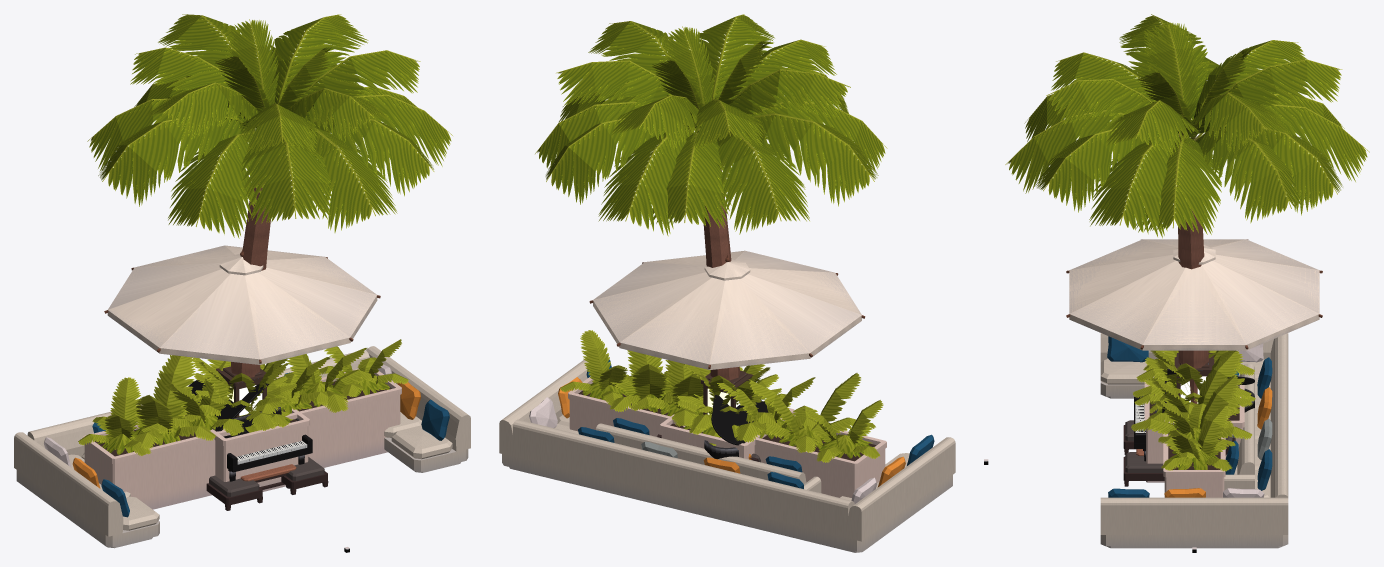
The model's file is Props.fbx.
3 renders of one model, left to right at view 1: azimuth 30°, elevation 25°; view 2: azimuth 150°, elevation 25°; view 3: azimuth 270°, elevation 25°, orthographic.
Visible parts, largest first — view 1: Palm__Foliage, UmbrellaSet__Opaque, LoungeCouch__Opaque, PlanterBed__Foliage, PlanterBed__Opaque, PalmPlanter__Opaque, Piano__Opaque, FernPlanter__Foliage, Palm__Opaque, SideCouch__Opaque, LanternTall__Opaque; view 2: Palm__Foliage, LoungeCouch__Opaque, UmbrellaSet__Opaque, PlanterBed__Foliage, PlanterBed__Opaque, SideCouch__Opaque, FernPlanter__Foliage, Piano__Opaque, Palm__Opaque, PalmPlanter__Opaque; view 3: Palm__Foliage, UmbrellaSet__Opaque, LoungeCouch__Opaque, PlanterBed__Foliage, SideCouch__Opaque, PlanterBed__Opaque, Palm__Opaque, FernPlanter__Foliage, PalmPlanter__Opaque, Piano__Opaque.
Boxes of the visible parts, x1,y1,x2,y2 form: Palm__Foliage: (87, 14, 452, 238); UmbrellaSet__Opaque: (104, 245, 380, 510); LoungeCouch__Opaque: (14, 346, 470, 548); PlanterBed__Foliage: (78, 339, 408, 455); PlanterBed__Opaque: (83, 369, 401, 509); PalmPlanter__Opaque: (210, 408, 309, 491); Piano__Opaque: (188, 374, 312, 481); FernPlanter__Foliage: (194, 358, 296, 435); Palm__Opaque: (230, 183, 270, 410); SideCouch__Opaque: (136, 422, 296, 489); LanternTall__Opaque: (216, 366, 266, 417); Palm__Foliage: (535, 14, 887, 236); LoungeCouch__Opaque: (499, 359, 955, 552); UmbrellaSet__Opaque: (589, 250, 865, 462); PlanterBed__Foliage: (560, 330, 883, 462); PlanterBed__Opaque: (568, 376, 886, 497); SideCouch__Opaque: (596, 418, 821, 492); FernPlanter__Foliage: (677, 363, 781, 445); Piano__Opaque: (704, 394, 768, 459); Palm__Opaque: (703, 169, 739, 380); PalmPlanter__Opaque: (660, 408, 794, 459); Palm__Foliage: (1005, 14, 1369, 238); UmbrellaSet__Opaque: (1066, 239, 1322, 486); LoungeCouch__Opaque: (1100, 333, 1288, 548); PlanterBed__Foliage: (1131, 350, 1254, 471); SideCouch__Opaque: (1136, 363, 1254, 490); PlanterBed__Opaque: (1163, 352, 1225, 497); Palm__Opaque: (1177, 145, 1208, 403); FernPlanter__Foliage: (1143, 350, 1244, 414); PalmPlanter__Opaque: (1144, 382, 1244, 482); Piano__Opaque: (1134, 368, 1254, 461).
Bounding box in the file's own units: 20.1 × 23.55 × 18.52.
Materials: 6 (2 with a texture image).
